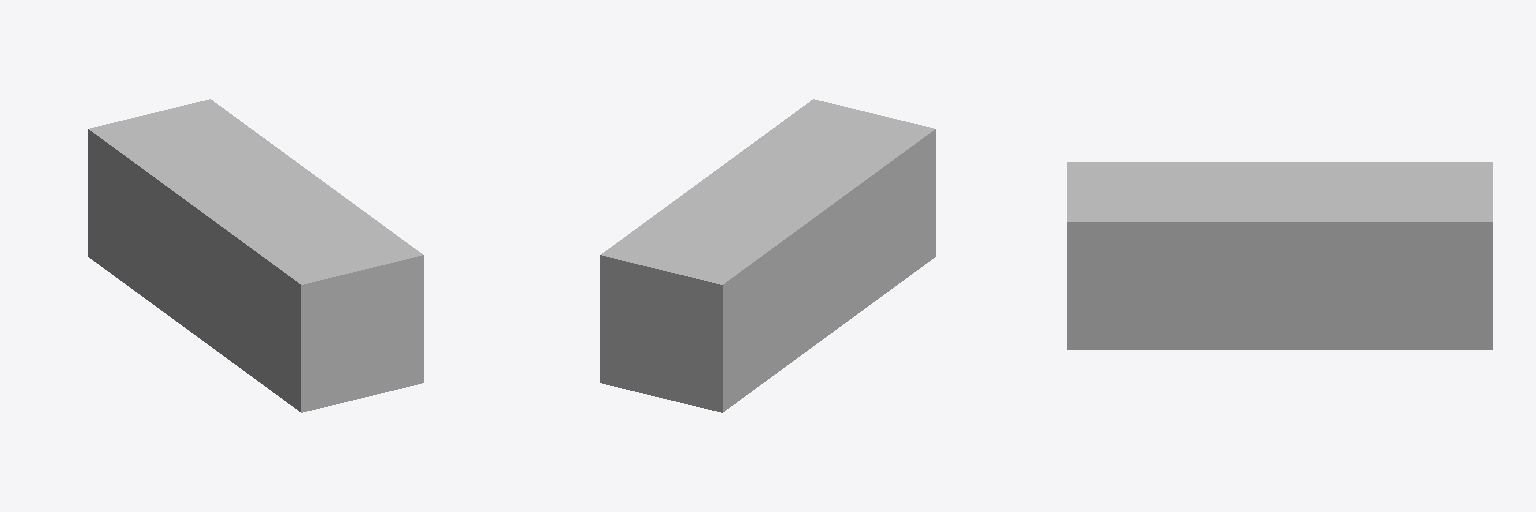
Rendered from fire.obj.
3 renders of one model, left to right at view 1: azimuth 30°, elevation 25°; view 2: azimuth 150°, elevation 25°; view 3: azimuth 270°, elevation 25°, orthographic.
Parts seen in each view (by area): view 1: Smoke Domain; view 2: Smoke Domain; view 3: Smoke Domain.
Part boxes in pixels (bbox=[...]): Smoke Domain: bbox=[88, 99, 423, 412]; Smoke Domain: bbox=[600, 99, 935, 412]; Smoke Domain: bbox=[1067, 162, 1492, 349].
Size of the model in its own units: 8.03 by 8.02 by 24.24.